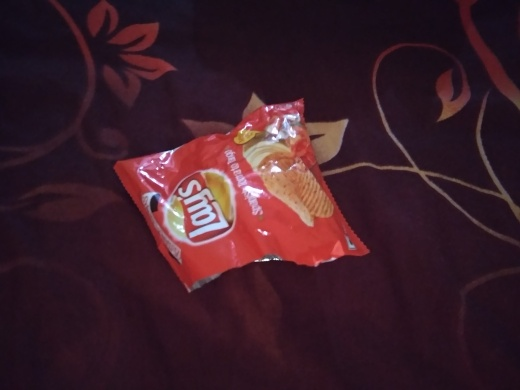lays: (95, 110, 352, 291)
